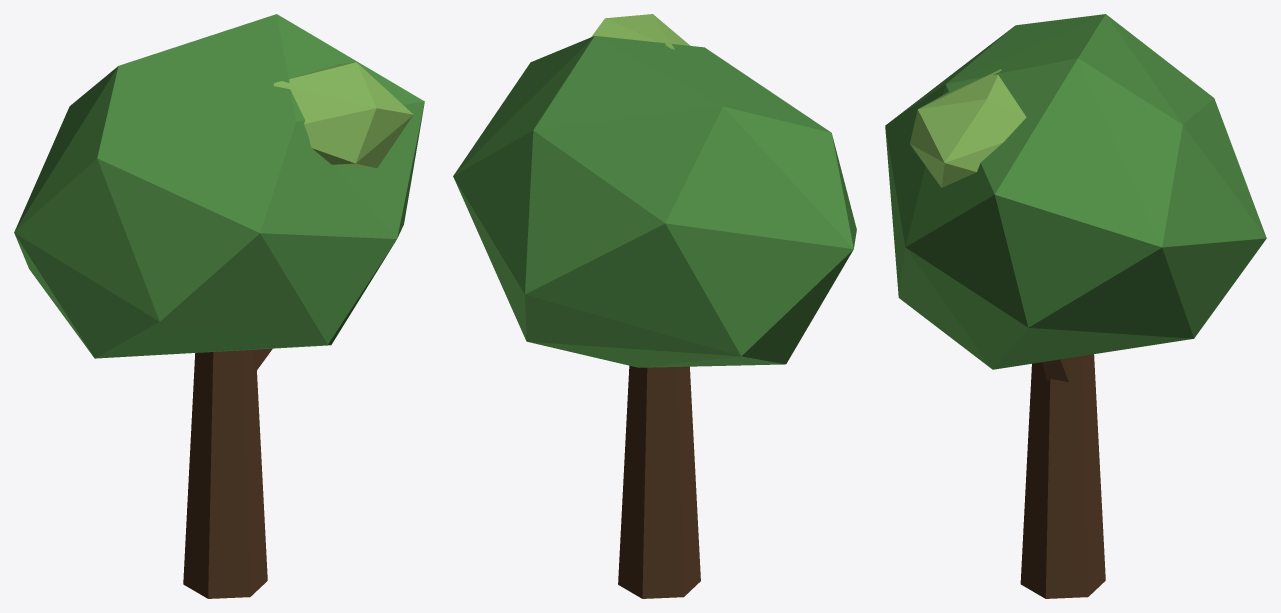
Rendered from deco_tree_a.glb.
The picture shows the model from 3 angles, left to right: view 1: azimuth 30°, elevation 25°; view 2: azimuth 150°, elevation 25°; view 3: azimuth 270°, elevation 25°; orthographic projection. The views are drawn at different scales.
Parts seen in each view (by area): view 1: deco_tree_a_mesh; view 2: deco_tree_a_mesh; view 3: deco_tree_a_mesh.
Part boxes in pixels (x1,y1,x2,y2): deco_tree_a_mesh: [14, 14, 424, 598]; deco_tree_a_mesh: [453, 14, 856, 598]; deco_tree_a_mesh: [885, 14, 1266, 598].
Size of the model in its own units: 0.2092 by 0.2964 by 0.1854.
